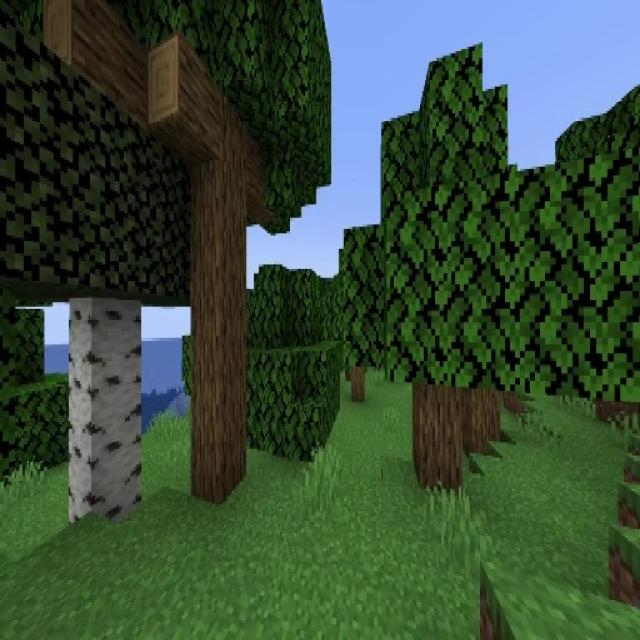birch: (0, 32, 207, 532)
birch_log: (71, 303, 141, 530)
oak: (1, 0, 332, 503), (350, 54, 559, 494)
oak_log: (188, 76, 245, 498), (412, 381, 463, 489), (470, 390, 500, 460), (350, 368, 364, 400)
